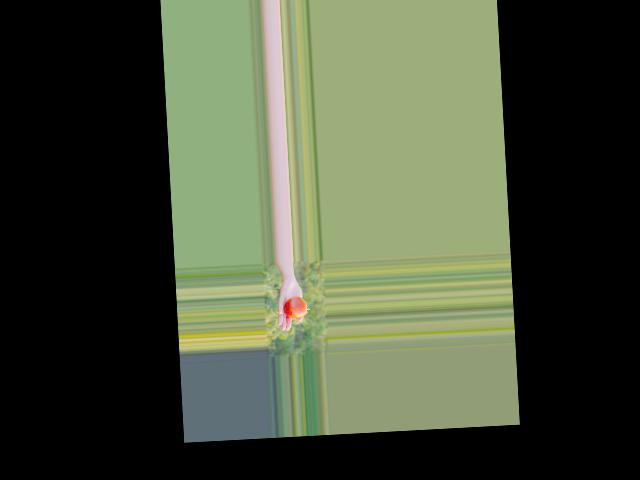tomato: (282, 296, 307, 319)
